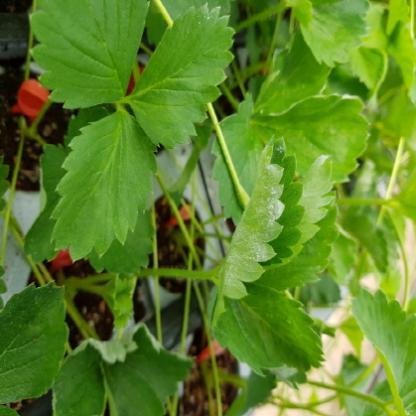Strawberry_Powdery_Mildew_Leaf: (219, 134, 304, 300)
